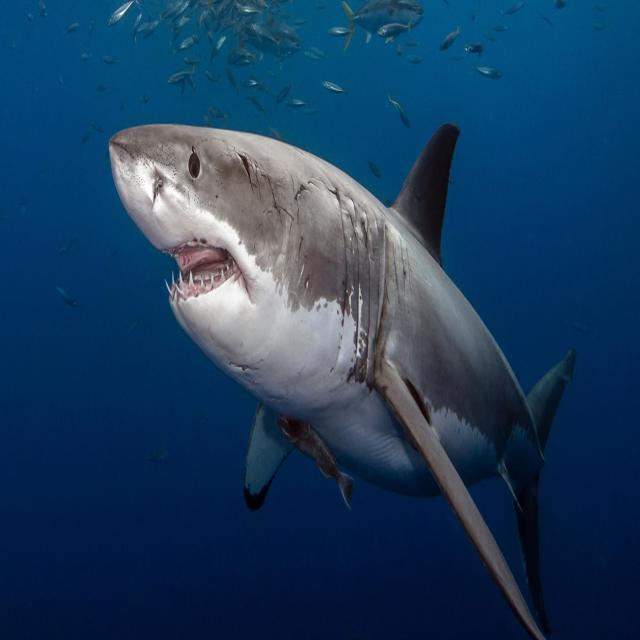shark: (109, 123, 575, 638)
